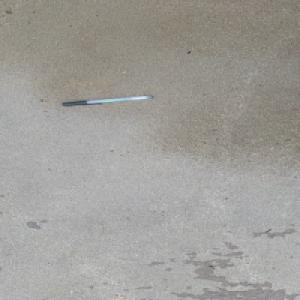Pen: (60, 94, 154, 108)
